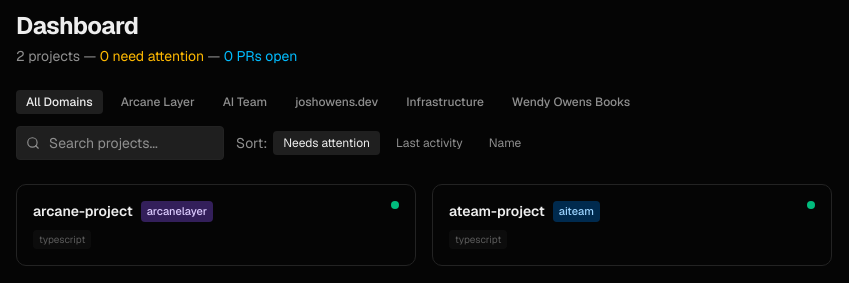
Test case: AC5: Filters and search work on live data › filters projects by domain chip
The image size is (849, 283).
Expected: the text "arcane-project" is shown, [33,201,133,221]
Expected: the text "ateam-project" is shown, [449,201,545,221]
# Click Arcane Layer filter chip
Click the button "Arcane Layer".
click(158, 102)  # box [111,90,205,114]
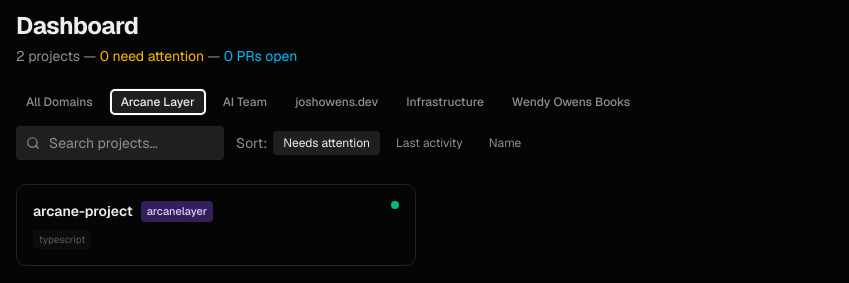
Expected: the text "arcane-project" is shown, [33,201,133,221]
Expected: the link "ateam-project" is gone
